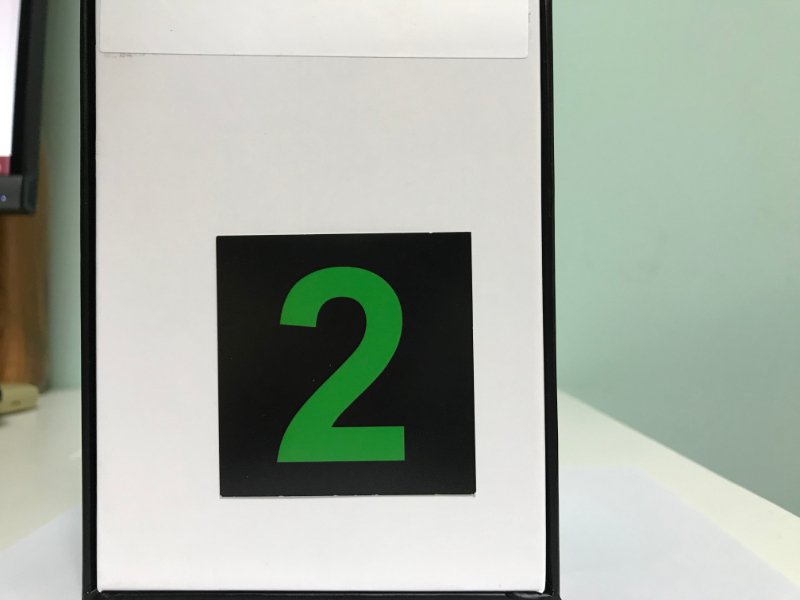Two-7: (223, 240, 470, 491)
